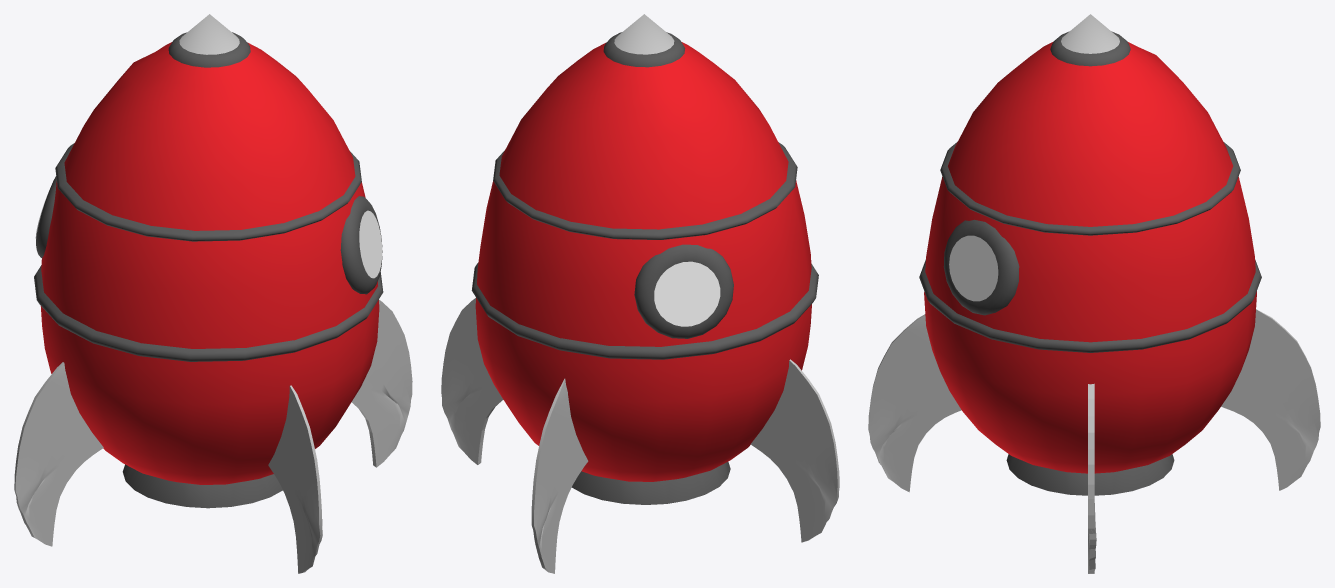
Rendered from RocketMC.fbx.
3 views of the same model, side by side, from view 1: azimuth 30°, elevation 25°; view 2: azimuth 150°, elevation 25°; view 3: azimuth 270°, elevation 25° (orthographic). The views are drawn at different scales.
Parts seen in each view (by area): view 1: pDisc9; view 2: pDisc9; view 3: pDisc9.
Part boxes in pixels (x1,y1,x2,y2): pDisc9: (14, 14, 412, 573); pDisc9: (441, 14, 839, 573); pDisc9: (868, 14, 1320, 573).
Bounding box in the file's own units: 5.92 × 7.02 × 5.98.
Materials: 1 (1 with a texture image).
